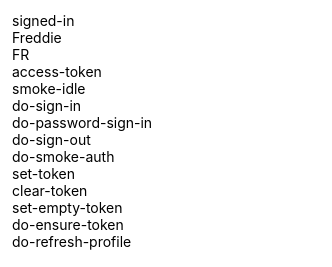
Test: SessionProvider › retries a locked session write when the app becomes active
Expected: the text "signed-in" is shown, x1=12 y1=12 x2=74 y2=29
Click the text "do-ensure-token" at [68, 224], box x1=12 y1=216 x2=124 y2=233
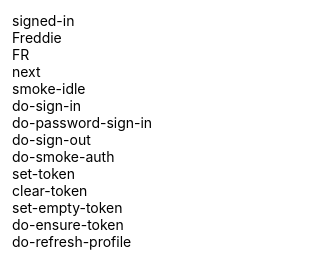
Expected: the text "signed-in" is shown, x1=12 y1=12 x2=74 y2=29
Expected: the text "next" is shown, x1=12 y1=63 x2=41 y2=80
